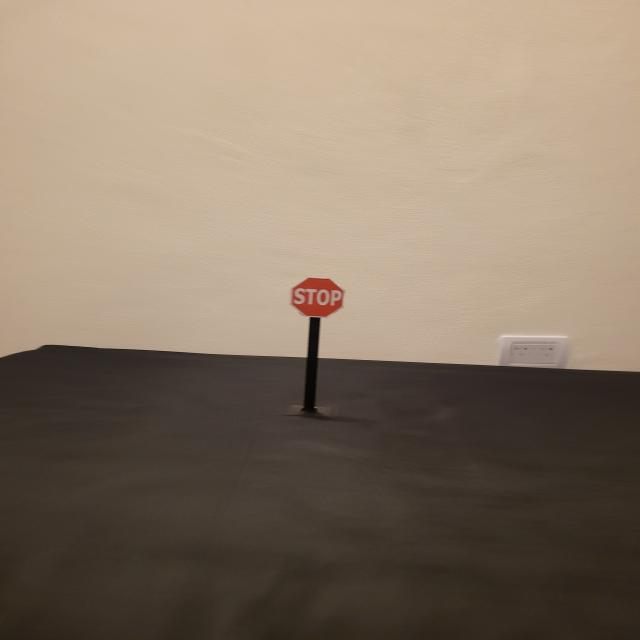stop: (290, 277, 346, 318)
